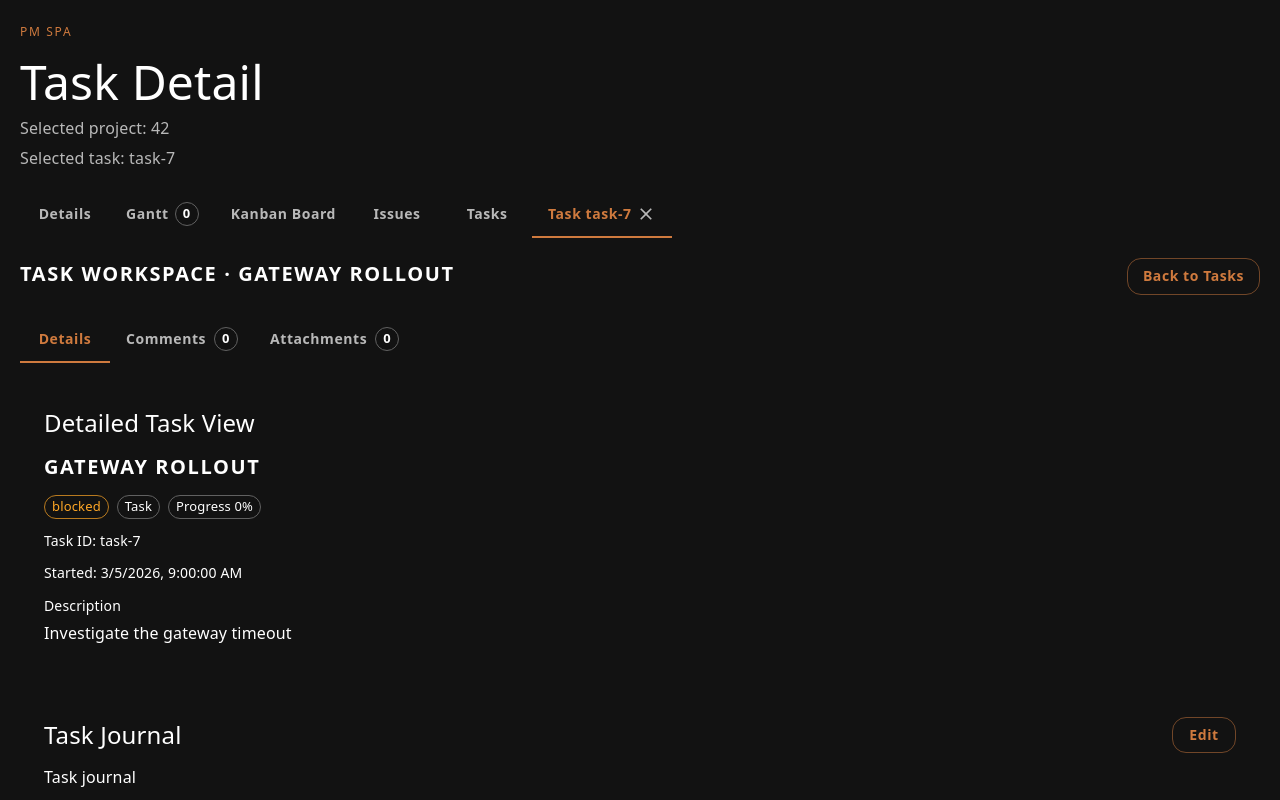
Test: ProjectManagerTaskPage › shows project and task attachment embedding instructions in the task journal editor
Check: the heading "Task Journal" is shown, box [44,719,182,751]
Check: the text "Task Journal" is shown, box [44,718,182,751]
Click the button "Edit" at x=1204, y=735, box [1172,717,1236,753]
(page scrolled)
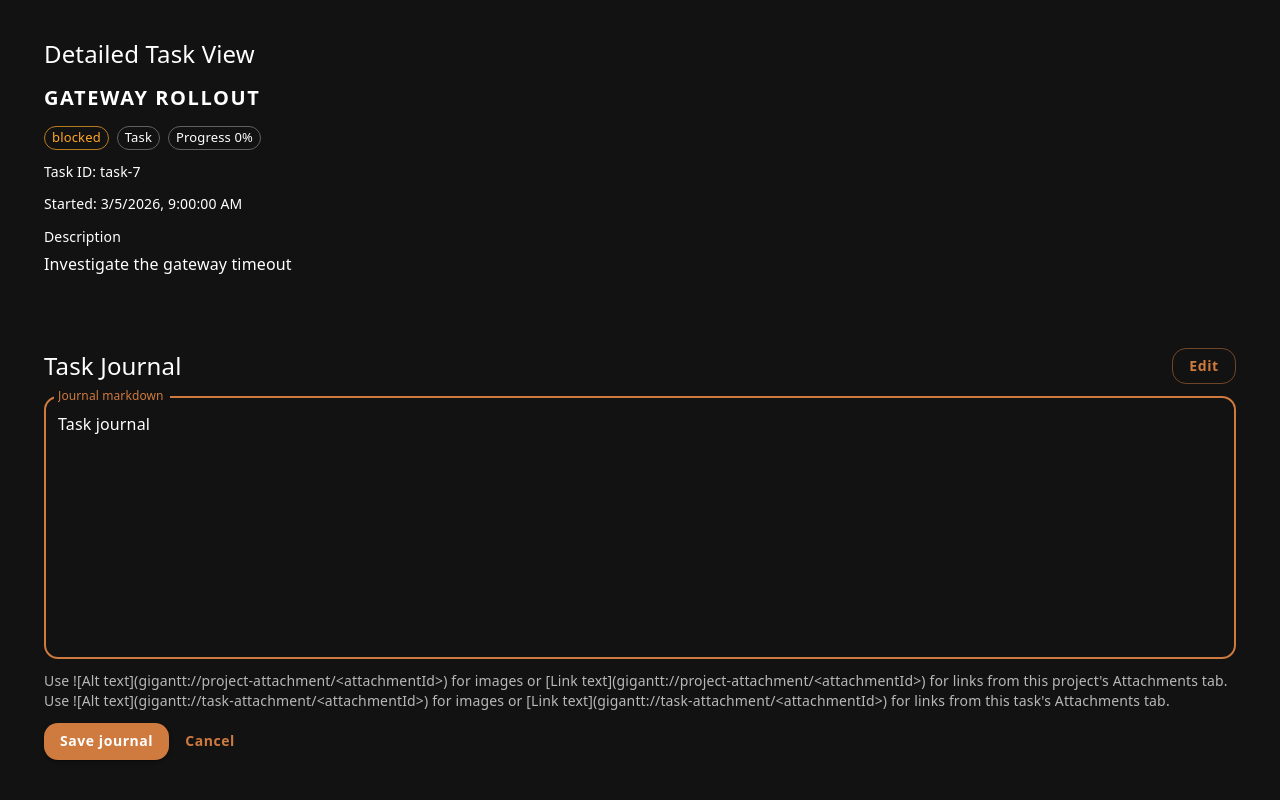
Check: the text "gigantt://task-attachment/<attachmentId>" is shown, box [44,671,1228,710]
